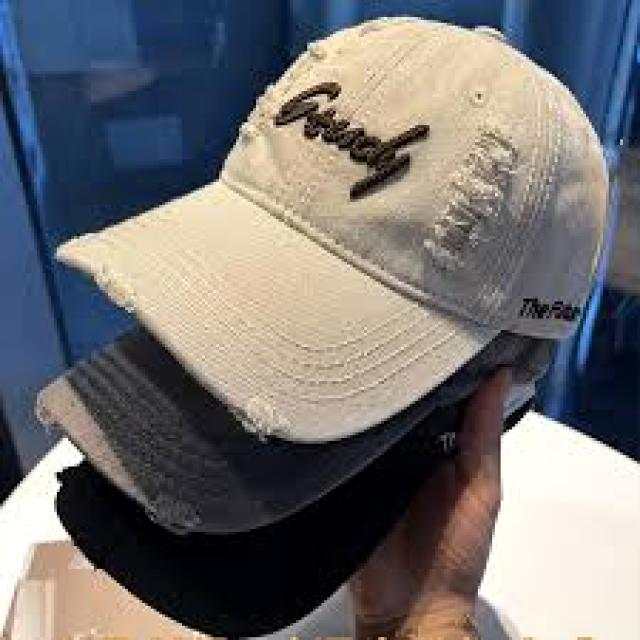hat: (57, 18, 608, 443), (40, 330, 548, 637)
